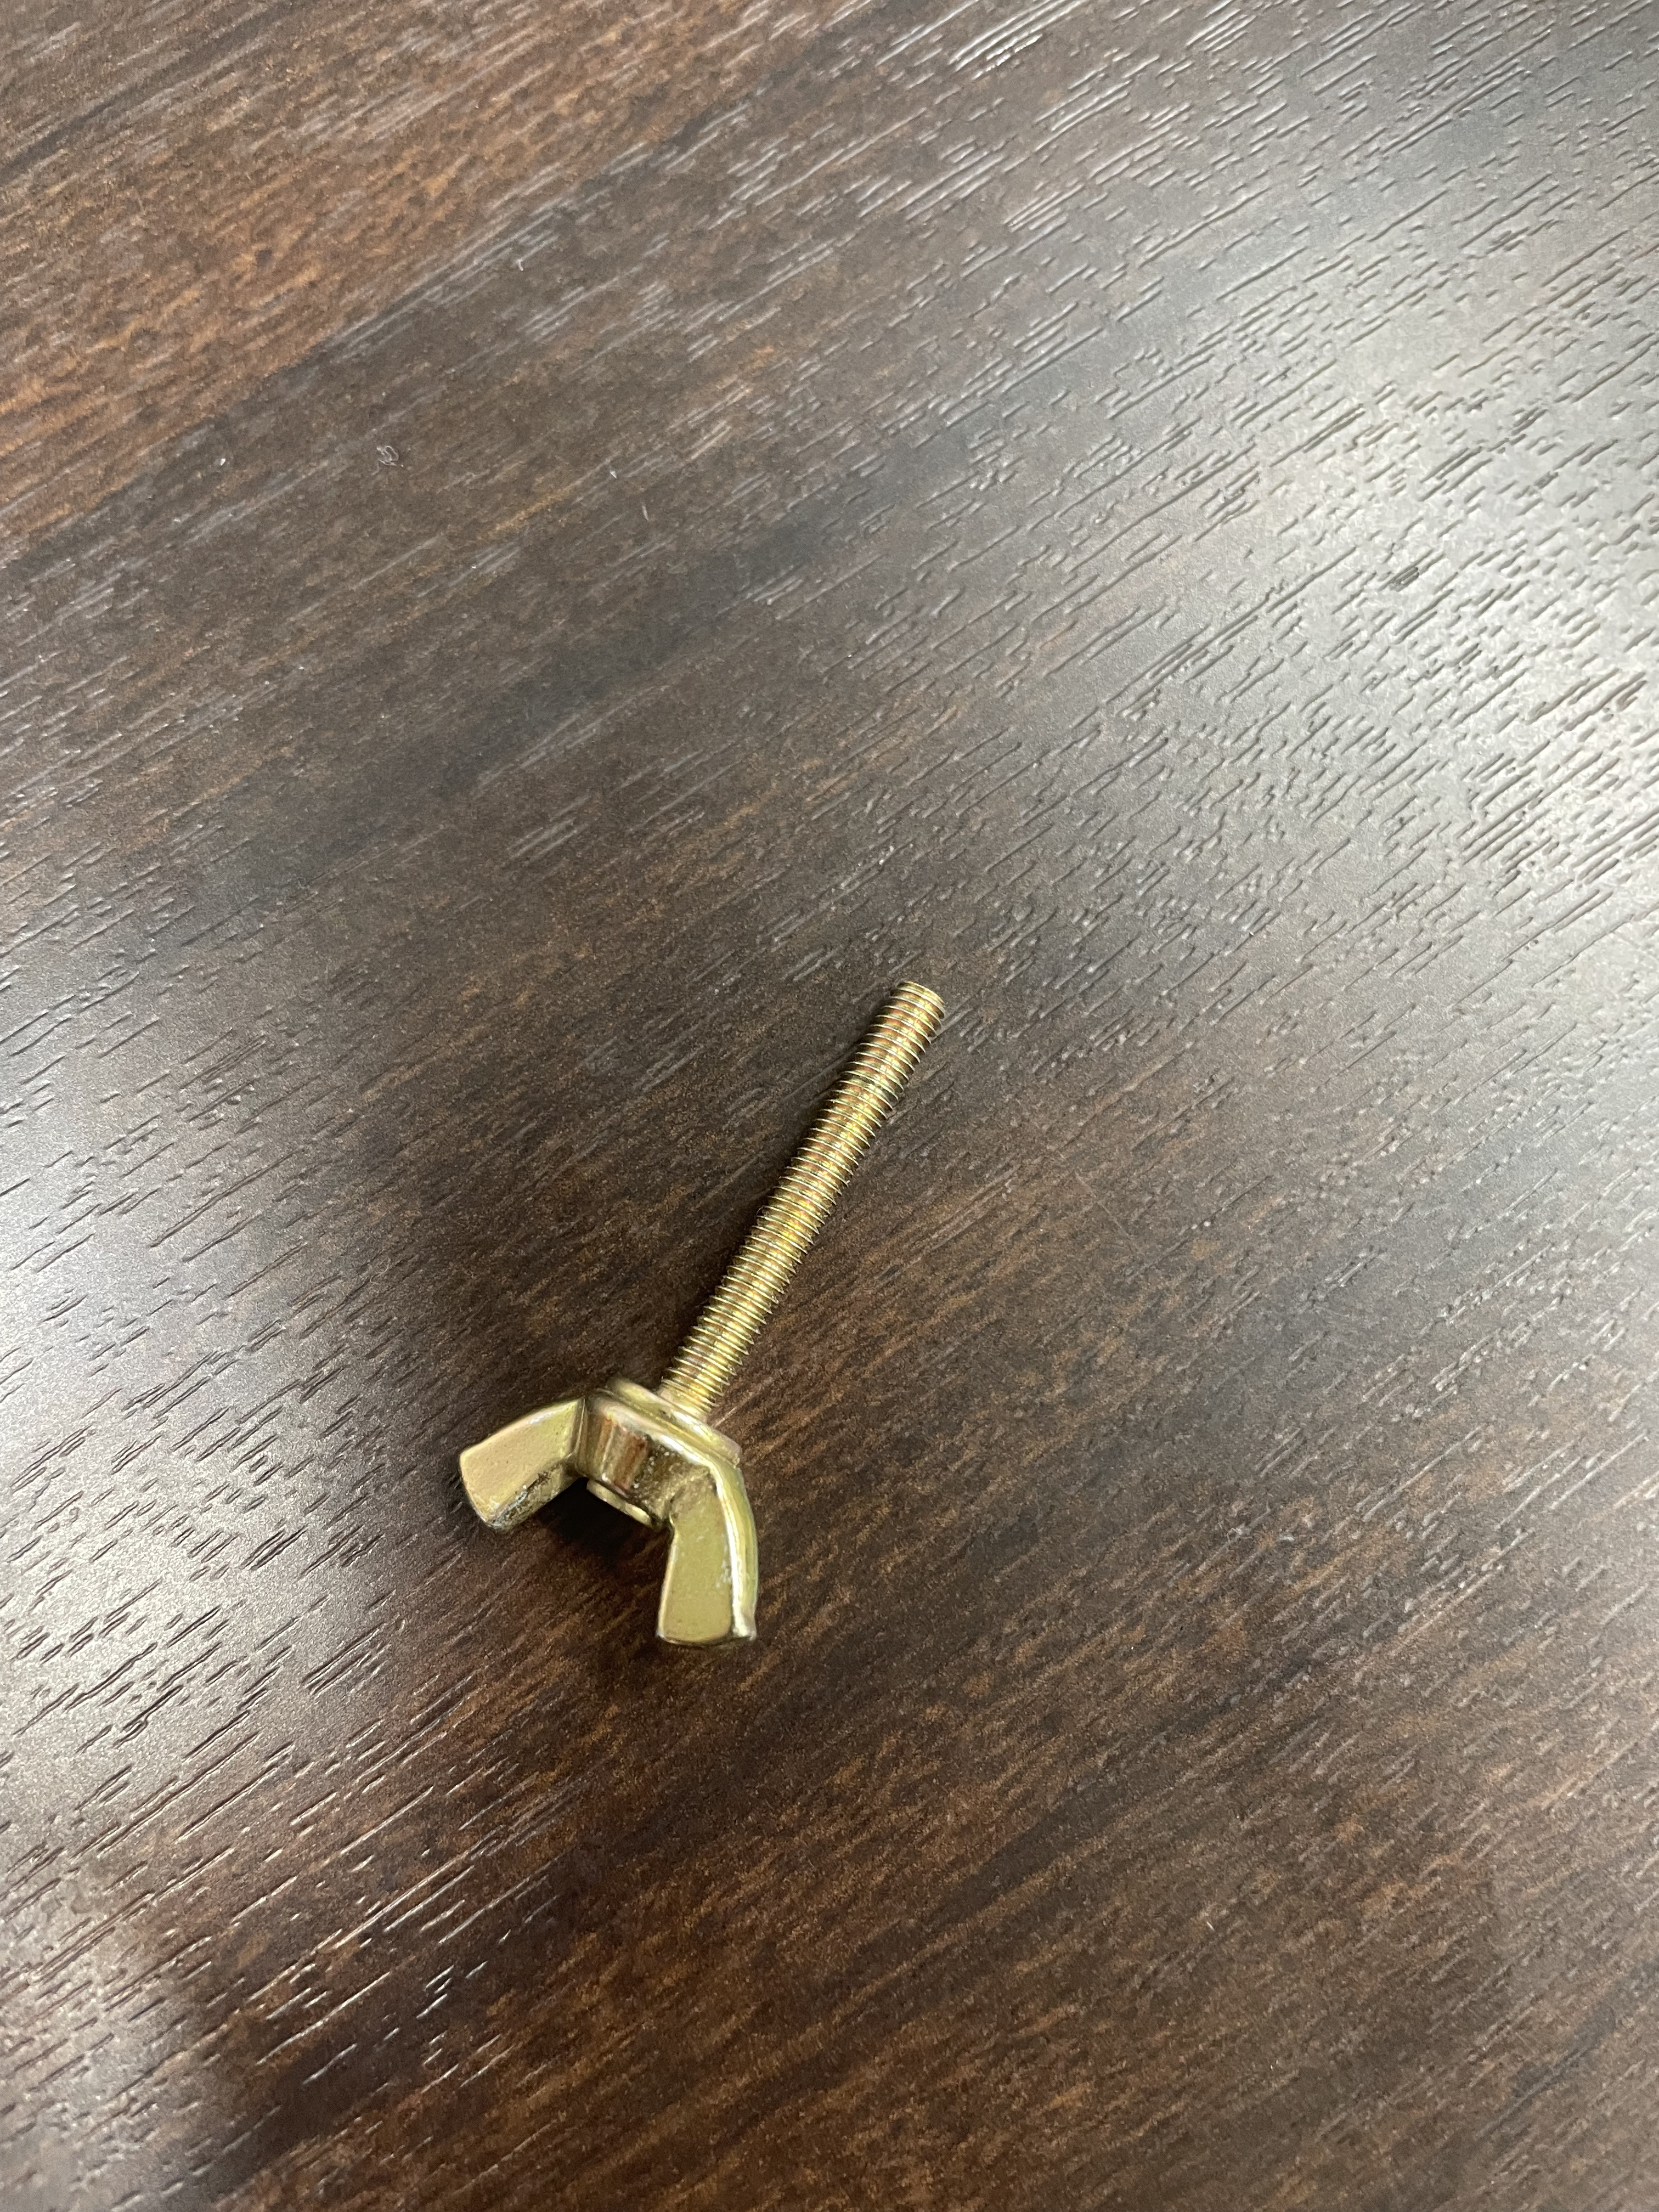screw0: (447, 978, 950, 1659)
